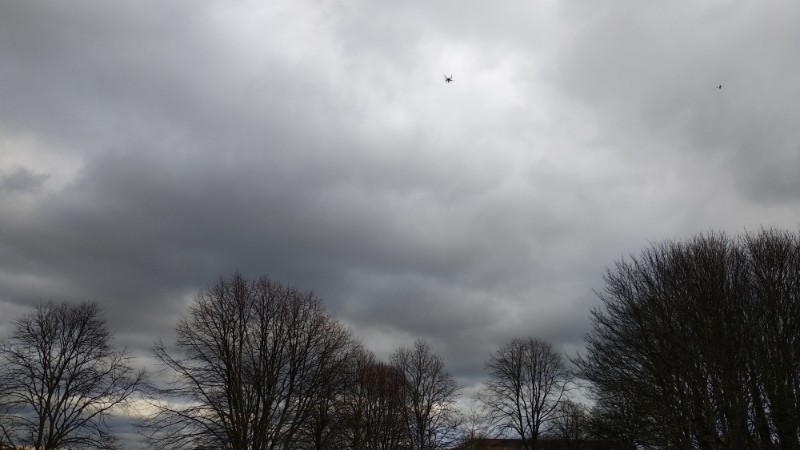drone: (444, 74, 454, 84)
